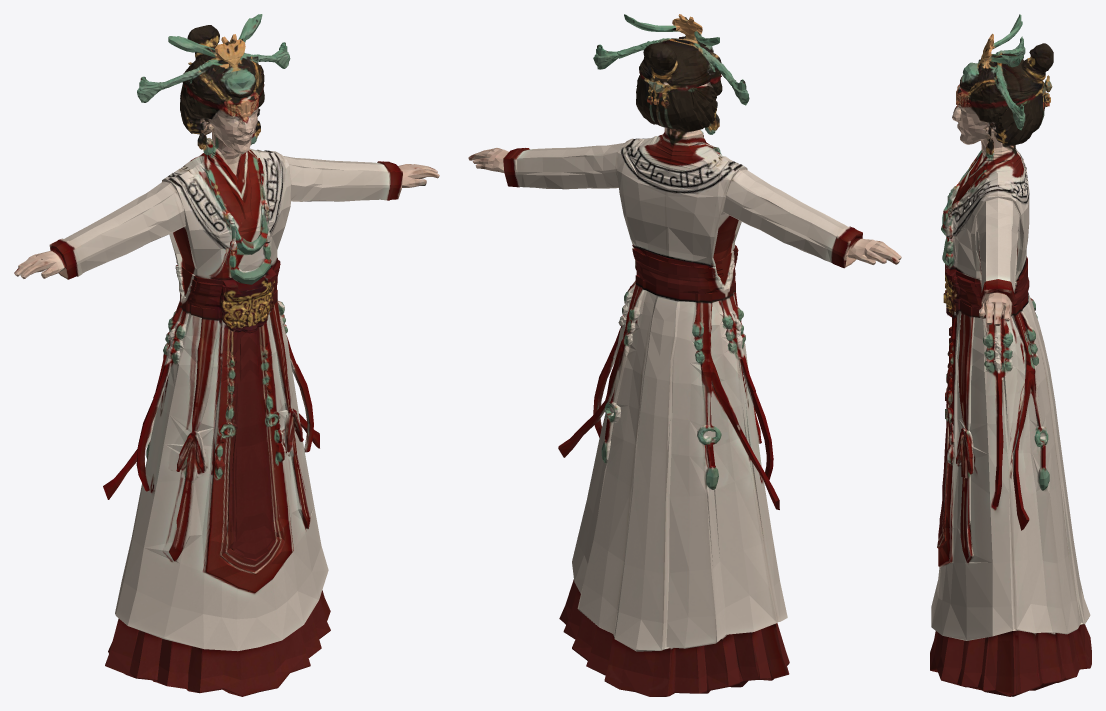
File: tripo_convert_7c9701e8-7ea2-437e-bf8a-737f5a838774.obj
The picture shows the model from 3 angles, left to right: view 1: azimuth 30°, elevation 25°; view 2: azimuth 150°, elevation 25°; view 3: azimuth 270°, elevation 25°; orthographic projection. The views are drawn at different scales.
Parts seen in each view (by area): view 1: tripo_node_7c9701e8-7ea2-437e-bf8a-737f5a838774; view 2: tripo_node_7c9701e8-7ea2-437e-bf8a-737f5a838774; view 3: tripo_node_7c9701e8-7ea2-437e-bf8a-737f5a838774.
Part boxes in pixels (box(x1,y1,x2,y2)): tripo_node_7c9701e8-7ea2-437e-bf8a-737f5a838774: box(14, 14, 439, 696); tripo_node_7c9701e8-7ea2-437e-bf8a-737f5a838774: box(468, 14, 901, 696); tripo_node_7c9701e8-7ea2-437e-bf8a-737f5a838774: box(930, 14, 1091, 696).
Bounding box in the file's own units: 0.6795 × 0.9808 × 0.2284.
Materials: 1 (1 with a texture image).
